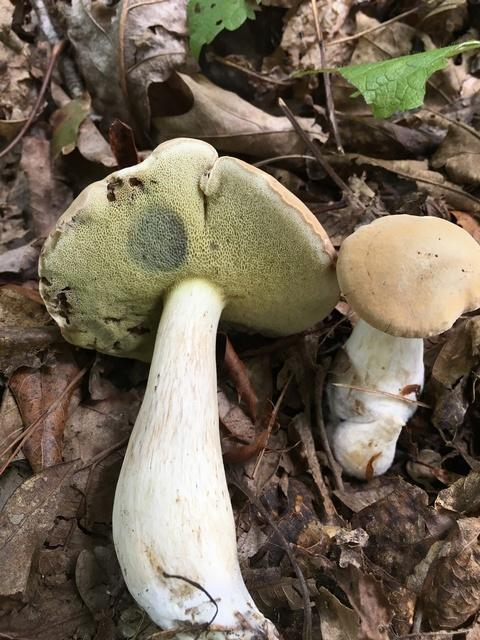Edible Mushroom: (36, 135, 341, 639), (324, 212, 479, 480)
